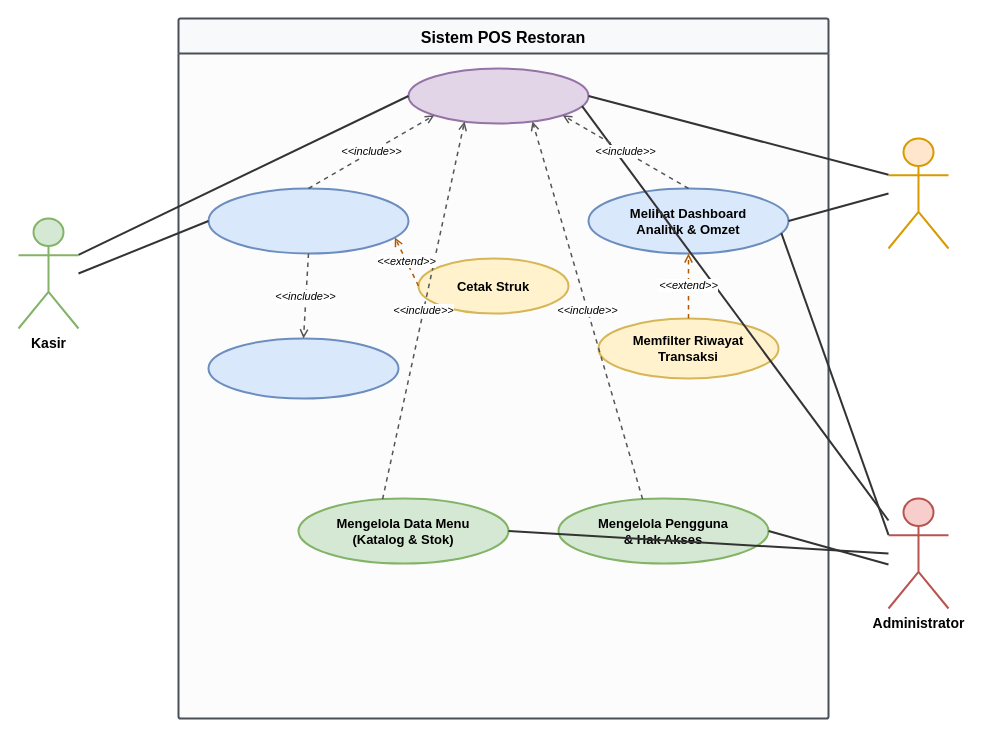
The diagram is 981 pixels wide and 736 high, and some of its shapes have lost their labels. The centre of each missing label's shape, as x and y in pixels:
"Login" goes at (x=498, y=95).
"Manajer" goes at (x=918, y=193).
"Memilih Metode Bayar (Tunai / QRIS)" goes at (x=303, y=368).
"Memproses Transaksi Penjualan" goes at (x=308, y=220).
